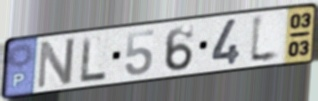4: (210, 17, 245, 68)
5: (124, 28, 157, 77)
6: (164, 25, 195, 73)
L: (247, 11, 283, 67), (79, 34, 108, 85)
N: (34, 36, 77, 92)
